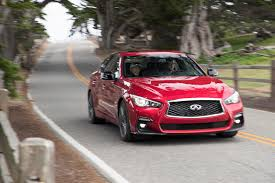car: (86, 49, 246, 144)
